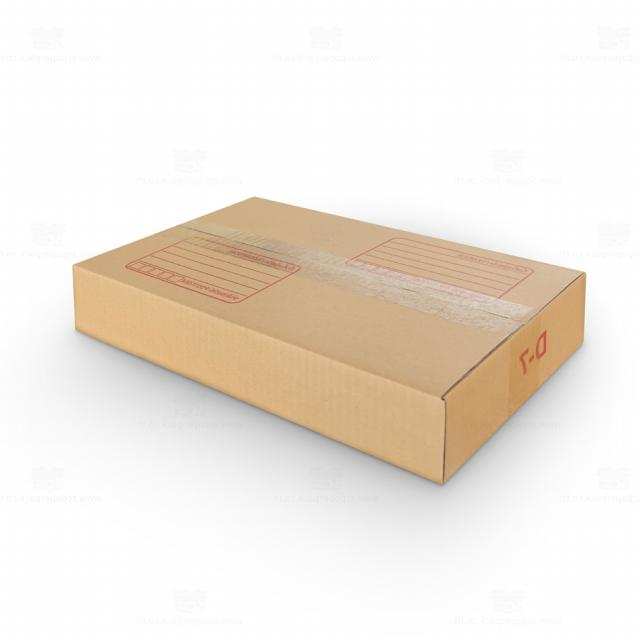box: (58, 192, 602, 515)
